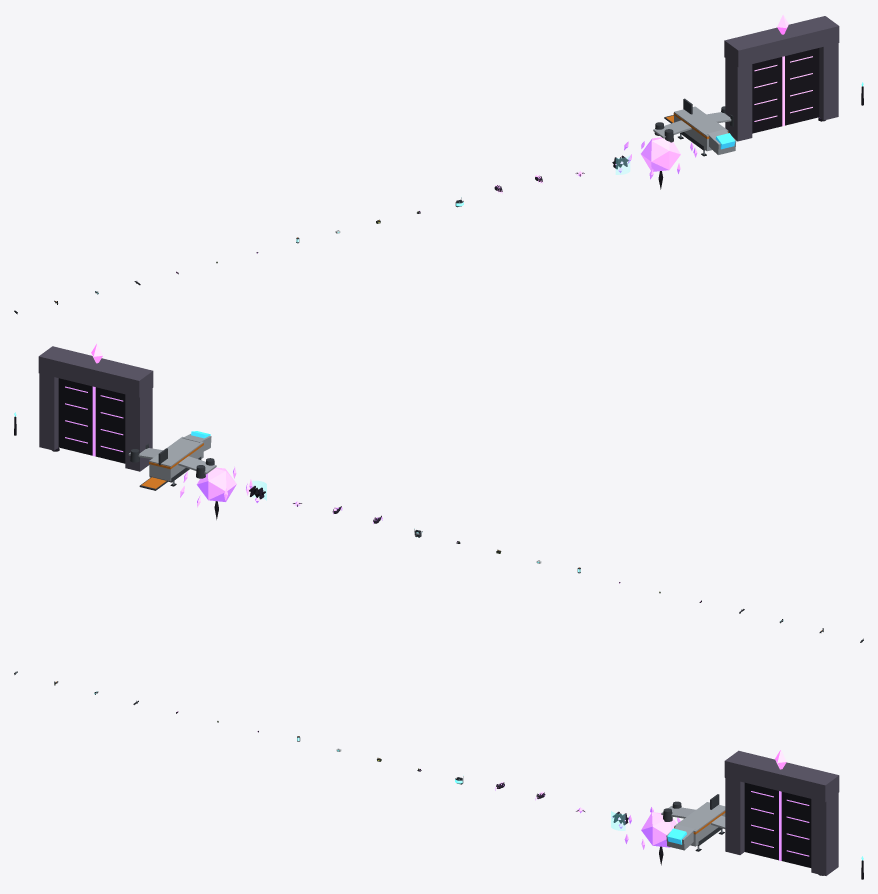
The model's file is props.glb.
3 renders of one model, top to bottom at view 1: azimuth 30°, elevation 25°; view 2: azimuth 150°, elevation 25°; view 3: azimuth 330°, elevation 25°, orthographic.
Parts seen in each view (by area): view 1: TempleGate, DoorR, Hull, DoorL, EcoShell; view 2: TempleGate, DoorR, DoorL, Hull, EcoShell; view 3: TempleGate, DoorL, DoorR, Hull, EcoShell.
Part boxes in pixels (x1,y1,x2,y2): TempleGate: (724, 15, 839, 141); DoorR: (783, 48, 819, 125); Hull: (653, 98, 736, 154); DoorL: (752, 56, 783, 133); EcoShell: (641, 137, 680, 171); TempleGate: (38, 343, 153, 471); DoorR: (58, 378, 93, 455); DoorL: (94, 387, 125, 463); Hull: (128, 431, 216, 482); EcoShell: (196, 467, 236, 501); TempleGate: (724, 749, 839, 875); DoorL: (744, 782, 780, 860); DoorR: (780, 791, 811, 867); Hull: (661, 794, 725, 850); EcoShell: (641, 812, 676, 847).
Size of the model in its own units: 126 by 20.9 by 14.56.
